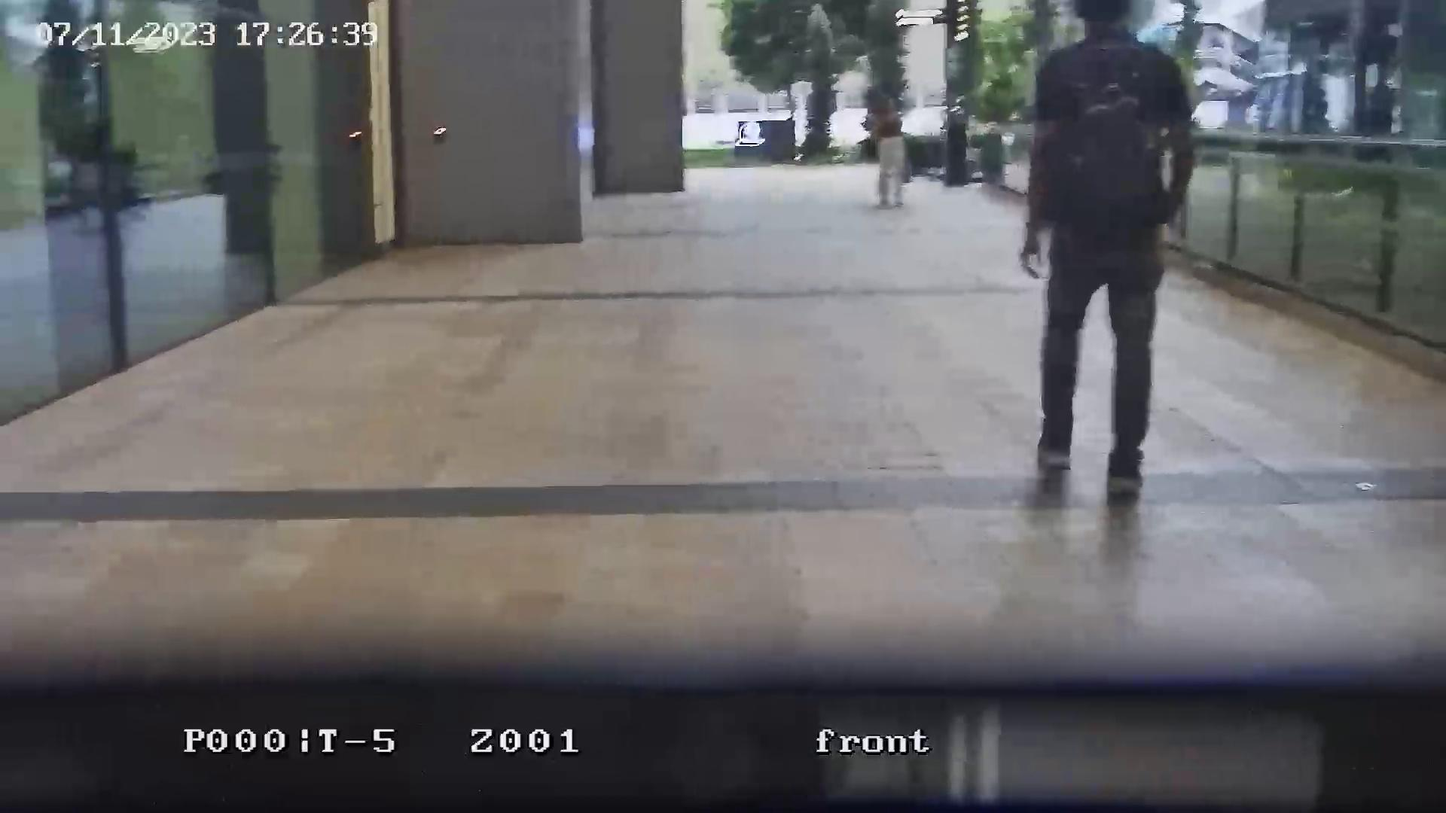person: (1020, 0, 1197, 491), (868, 95, 907, 209)
